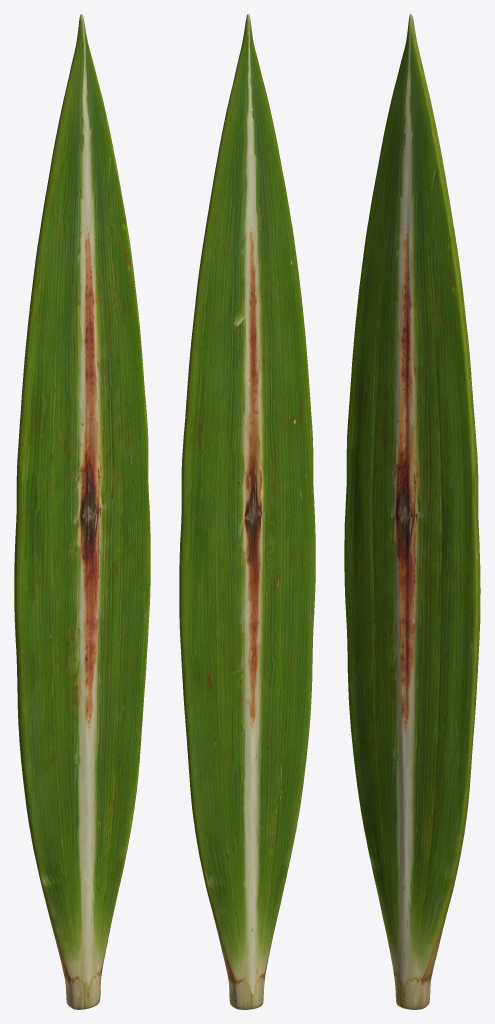
Rendered from sugarcane_red_rot.glb.
3 views of the same model, side by side, from view 1: azimuth 30°, elevation 25°; view 2: azimuth 210°, elevation 25°; view 3: azimuth 330°, elevation 25° (orthographic).
Parts seen in each view (by area): view 1: sugarcane_red_rot; view 2: sugarcane_red_rot; view 3: sugarcane_red_rot.
Boxes of the visible parts, bbox=[...] form: sugarcane_red_rot: bbox=[14, 14, 150, 1009]; sugarcane_red_rot: bbox=[179, 14, 315, 1009]; sugarcane_red_rot: bbox=[344, 14, 480, 1009].
Bounding box in the file's own units: 0.1426 × 1 × 0.0286.
Materials: 1 (1 with a texture image).
